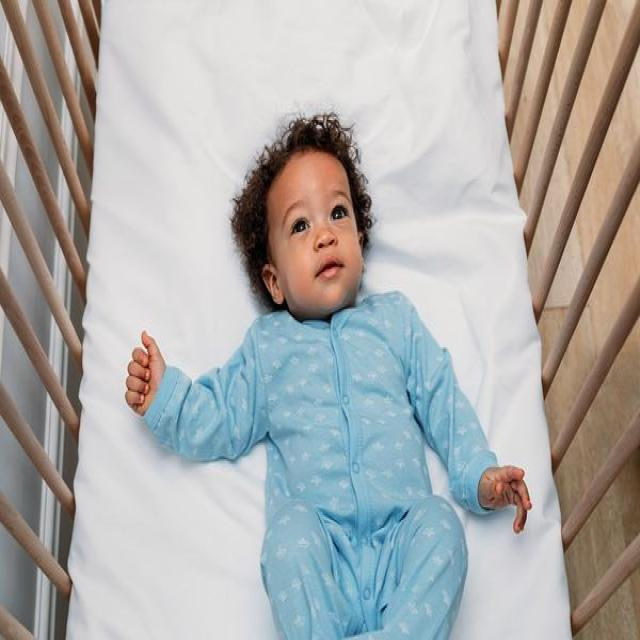non-dog: (127, 110, 534, 640)
